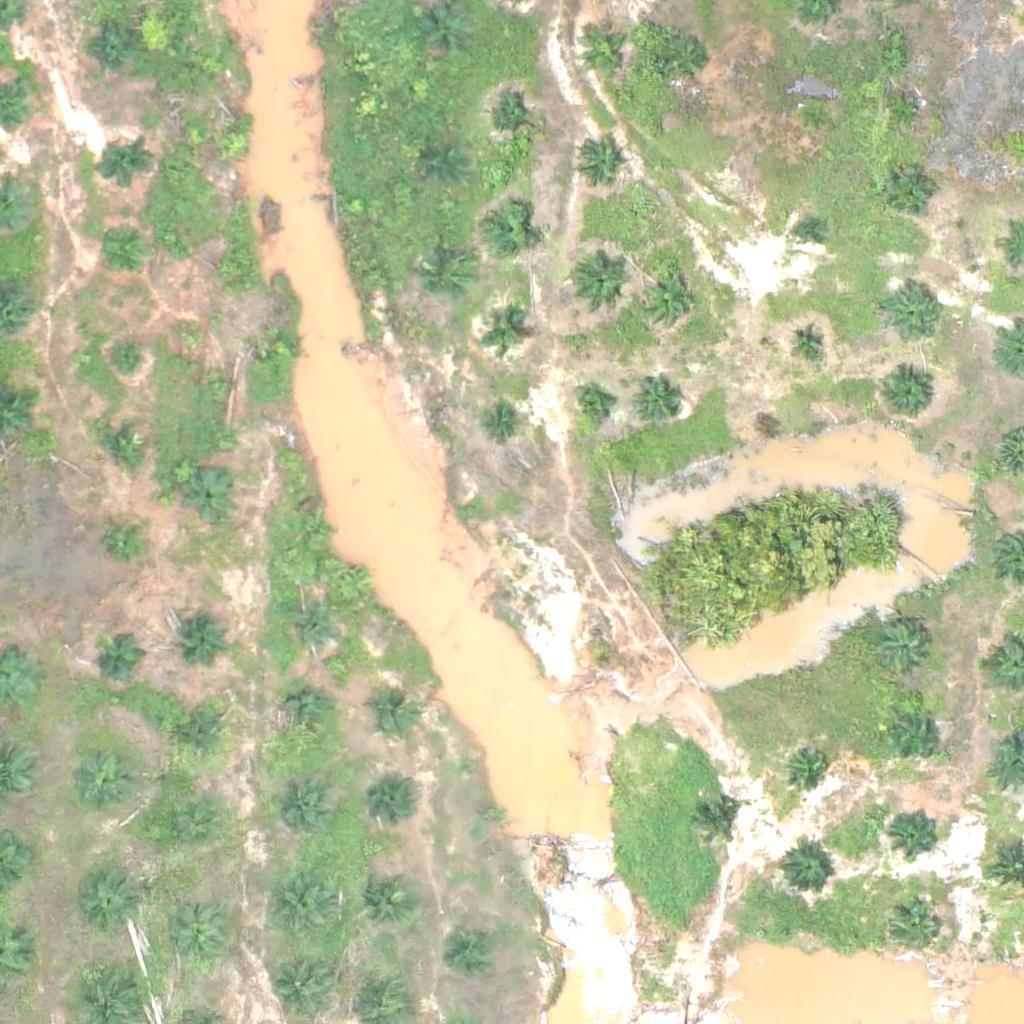Kelapa_Sawit: (156, 803, 219, 866), (271, 779, 334, 842), (269, 876, 332, 939), (270, 957, 333, 1020), (636, 268, 699, 331), (78, 750, 140, 813), (77, 871, 139, 934), (166, 909, 228, 972), (356, 867, 418, 930), (876, 364, 938, 427), (880, 282, 942, 345), (570, 250, 632, 313), (666, 33, 716, 84), (879, 625, 929, 676), (890, 708, 940, 759), (890, 806, 940, 857), (886, 163, 936, 214), (95, 421, 145, 472), (579, 27, 629, 78), (372, 778, 422, 828), (179, 609, 229, 659), (97, 634, 147, 684), (286, 604, 336, 654), (185, 473, 235, 523), (282, 689, 332, 739), (368, 688, 418, 738), (781, 846, 831, 896), (450, 924, 500, 974), (892, 907, 942, 957), (784, 742, 834, 792), (693, 798, 743, 848), (176, 713, 226, 763), (487, 98, 537, 148), (485, 207, 535, 257), (574, 140, 624, 190), (634, 376, 684, 426), (99, 141, 149, 191), (97, 231, 147, 281), (421, 6, 471, 56), (90, 26, 140, 76), (423, 257, 473, 307), (294, 511, 332, 549), (106, 522, 144, 560), (484, 312, 522, 350), (485, 403, 523, 441), (572, 386, 610, 424), (198, 363, 236, 401), (208, 250, 246, 288), (214, 125, 252, 163), (791, 323, 828, 361), (262, 325, 299, 363), (795, 99, 833, 136), (425, 145, 462, 183), (888, 93, 925, 131), (108, 344, 145, 381), (797, 220, 822, 245)
